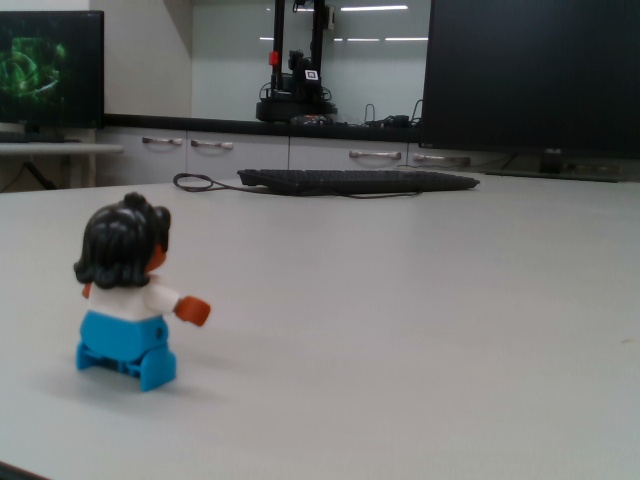people: (68, 188, 212, 397)
